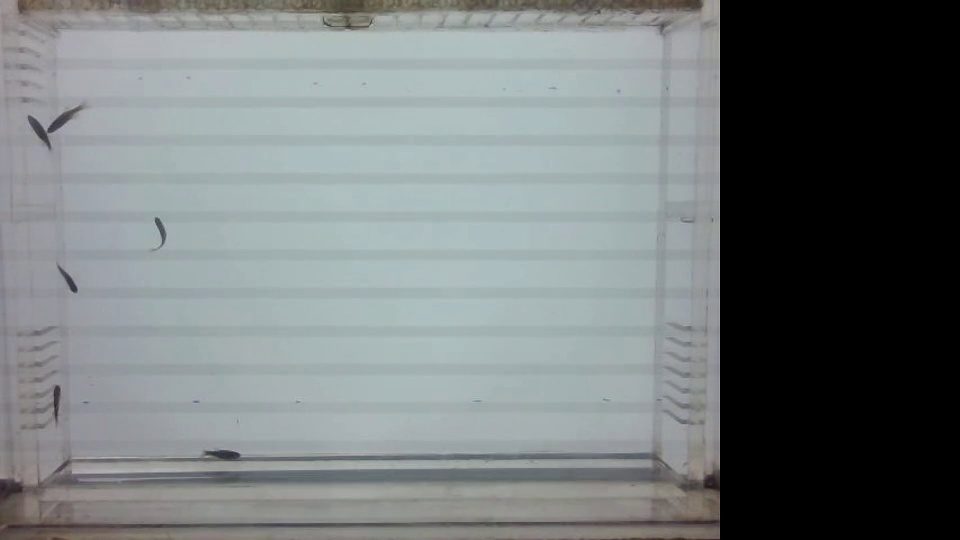fish: (44, 92, 88, 133), (20, 112, 53, 156), (141, 212, 172, 258), (50, 260, 80, 296), (193, 448, 248, 465), (45, 385, 64, 425)
